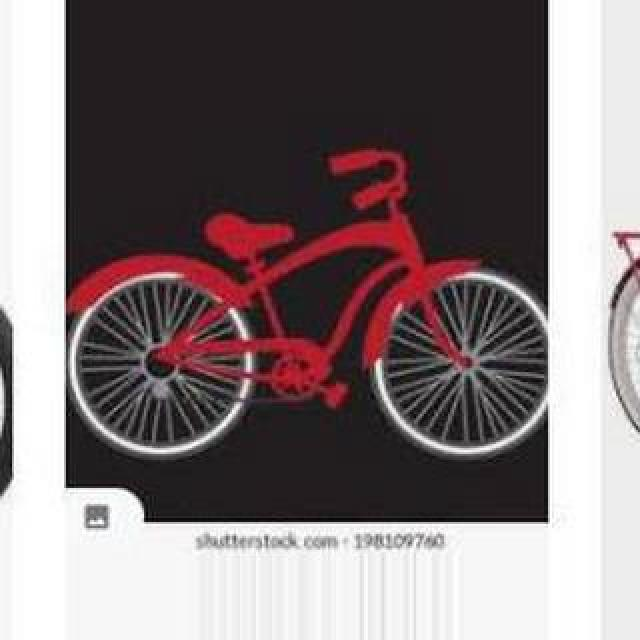Person: (73, 134, 551, 490)
